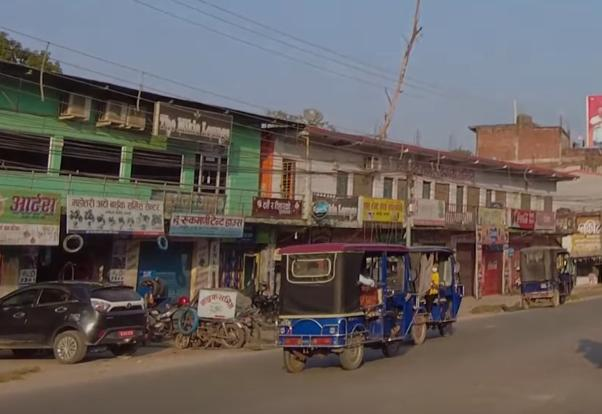car: (0, 274, 150, 368)
e-rickshaw: (274, 228, 411, 378), (402, 243, 469, 341), (513, 244, 581, 314)
